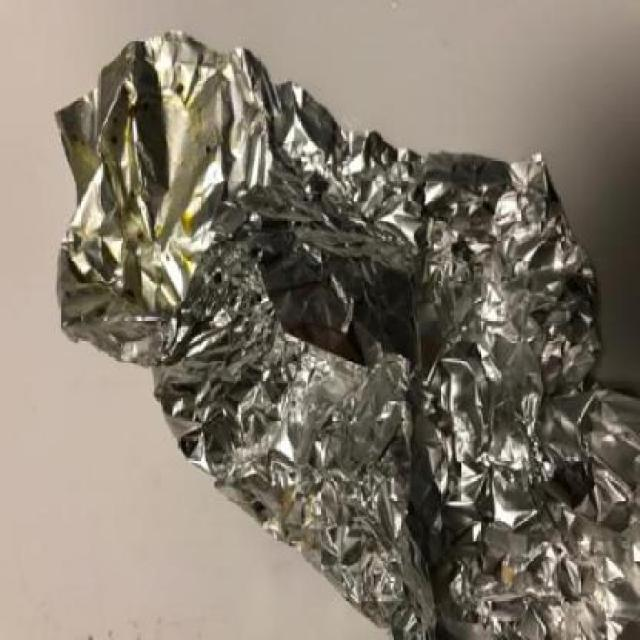METAL: (51, 31, 638, 638)
